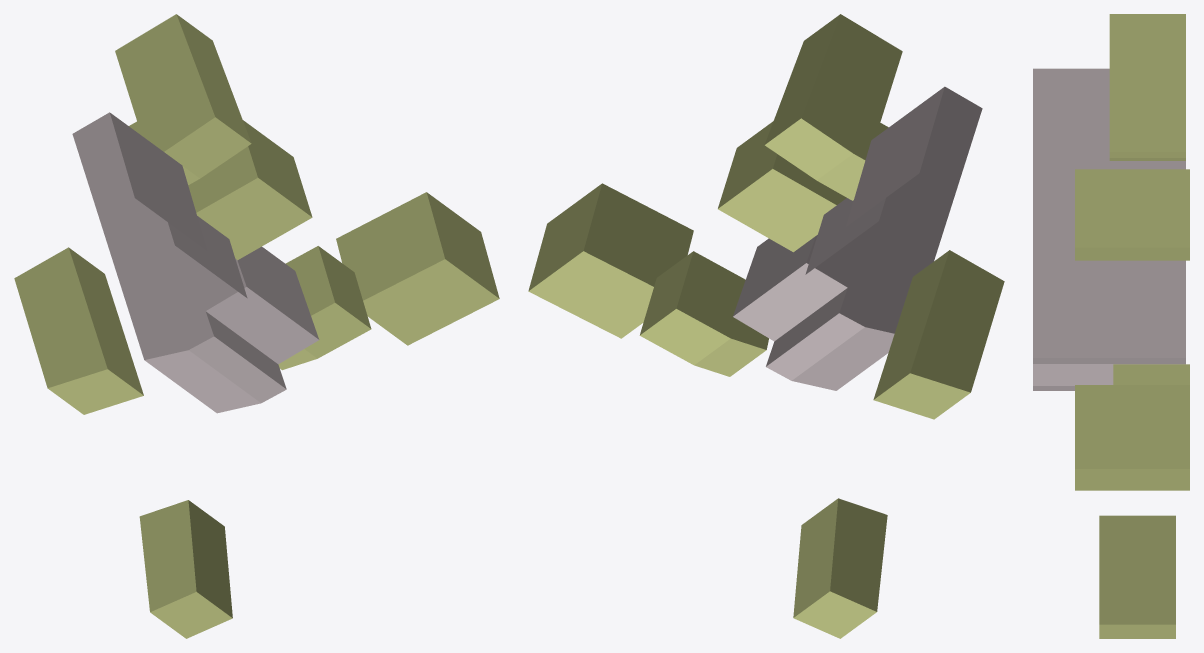
The picture shows the model from 3 angles, left to right: view 1: azimuth 30°, elevation 25°; view 2: azimuth 150°, elevation 25°; view 3: azimuth 270°, elevation 25°; orthographic projection. The views are drawn at different scales.
Parts seen in each view (by area): view 1: 0_1_0_2_1_2_3_0_3; view 2: 0_1_0_2_1_2_3_0_3; view 3: 0_1_0_2_1_2_3_0_3.
Boxes of the visible parts, <box> form: 0_1_0_2_1_2_3_0_3: <box>14,14,499,638</box>; 0_1_0_2_1_2_3_0_3: <box>528,14,1004,638</box>; 0_1_0_2_1_2_3_0_3: <box>1033,14,1189,638</box>.
Size of the model in its own units: 41.24 by 53.47 by 12.3.
